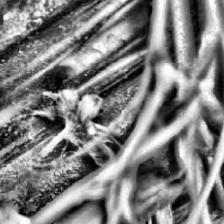Gray Mold: (28, 88, 128, 173)
